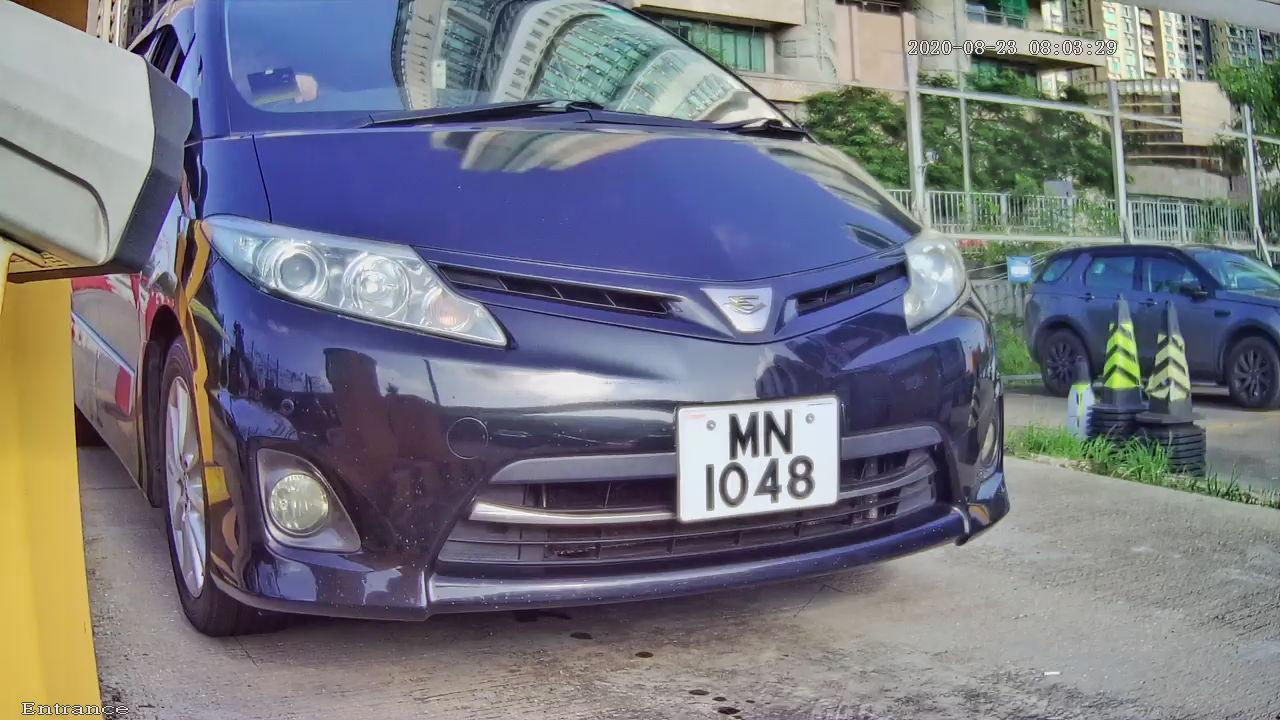Car: (69, 1, 1075, 676)
License Plate: (658, 389, 863, 541)
